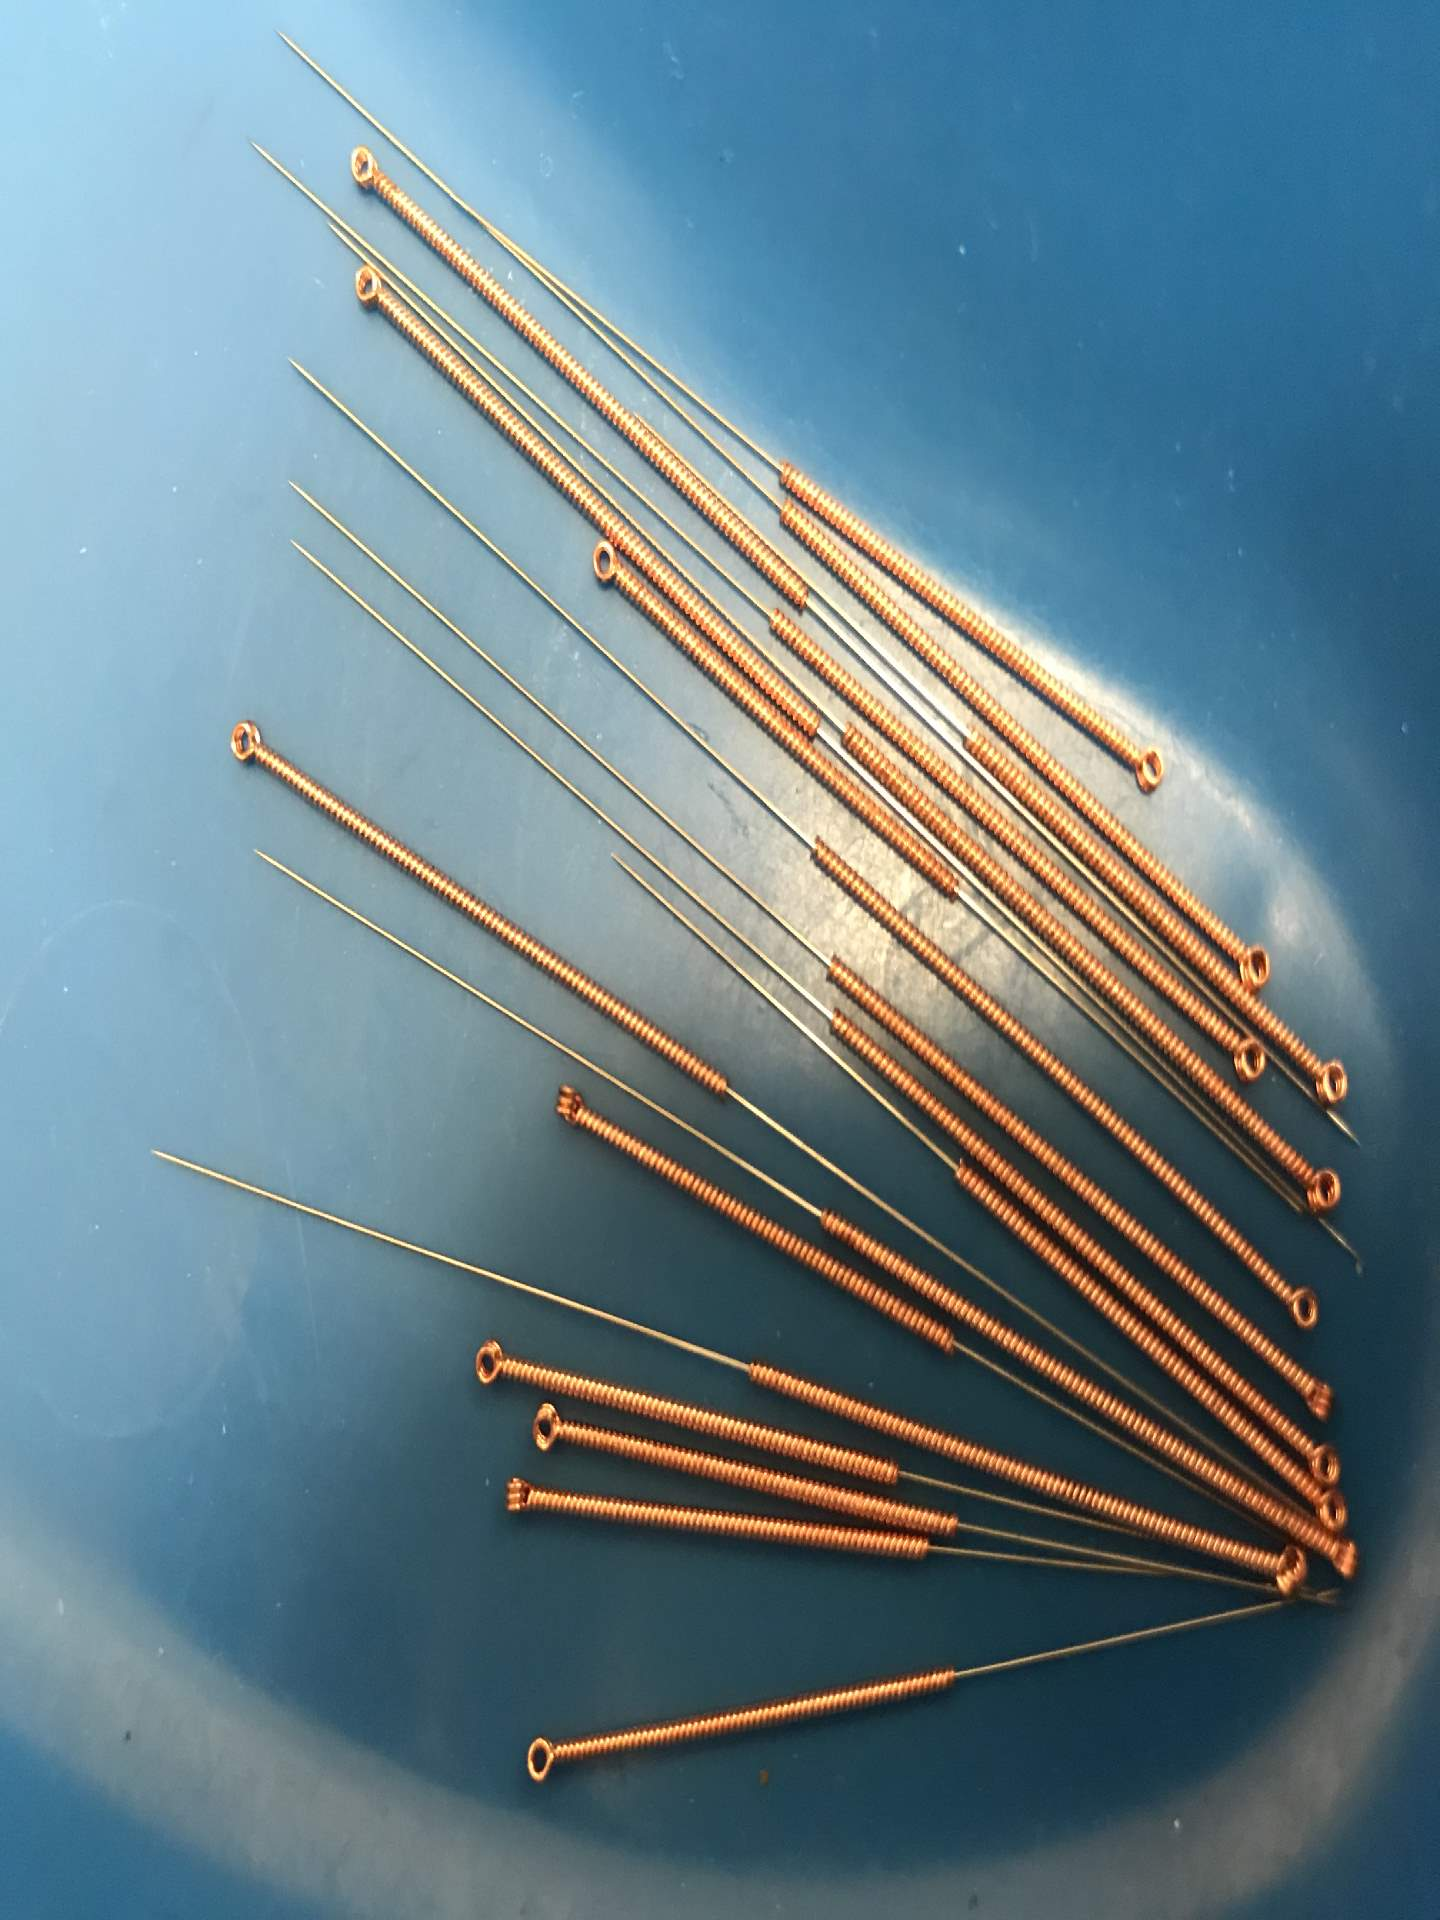needle: (507, 1722, 572, 1798), (212, 706, 281, 776), (486, 1462, 552, 1531), (1289, 1154, 1349, 1229), (455, 1327, 517, 1397), (334, 133, 395, 204), (1302, 1045, 1360, 1117), (1271, 1268, 1333, 1335), (517, 1395, 578, 1463), (542, 1067, 597, 1138), (1119, 735, 1175, 804), (342, 255, 396, 321), (1286, 1365, 1345, 1423), (1222, 1028, 1277, 1089), (1258, 1538, 1310, 1601), (1236, 928, 1281, 993), (1317, 1531, 1367, 1589), (1299, 1429, 1349, 1485), (1304, 1485, 1355, 1536), (579, 534, 622, 594)
